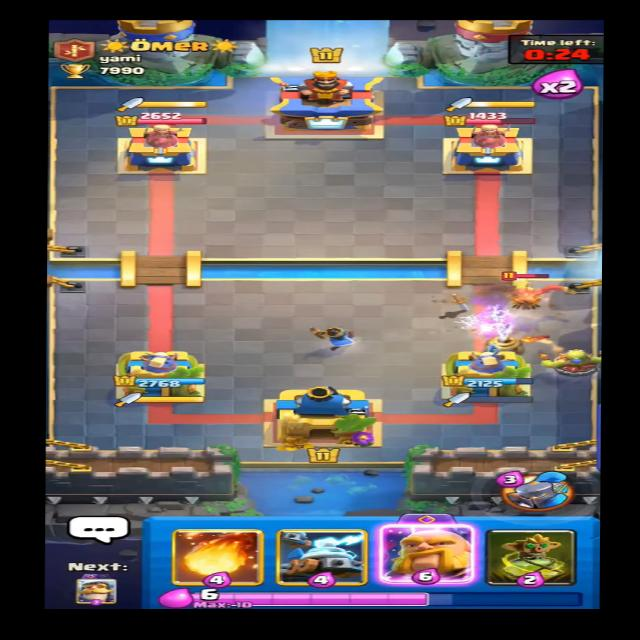phoenix: (470, 262, 586, 314)
